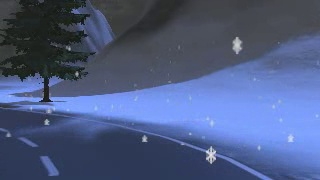Lane: (1, 107, 272, 179)
